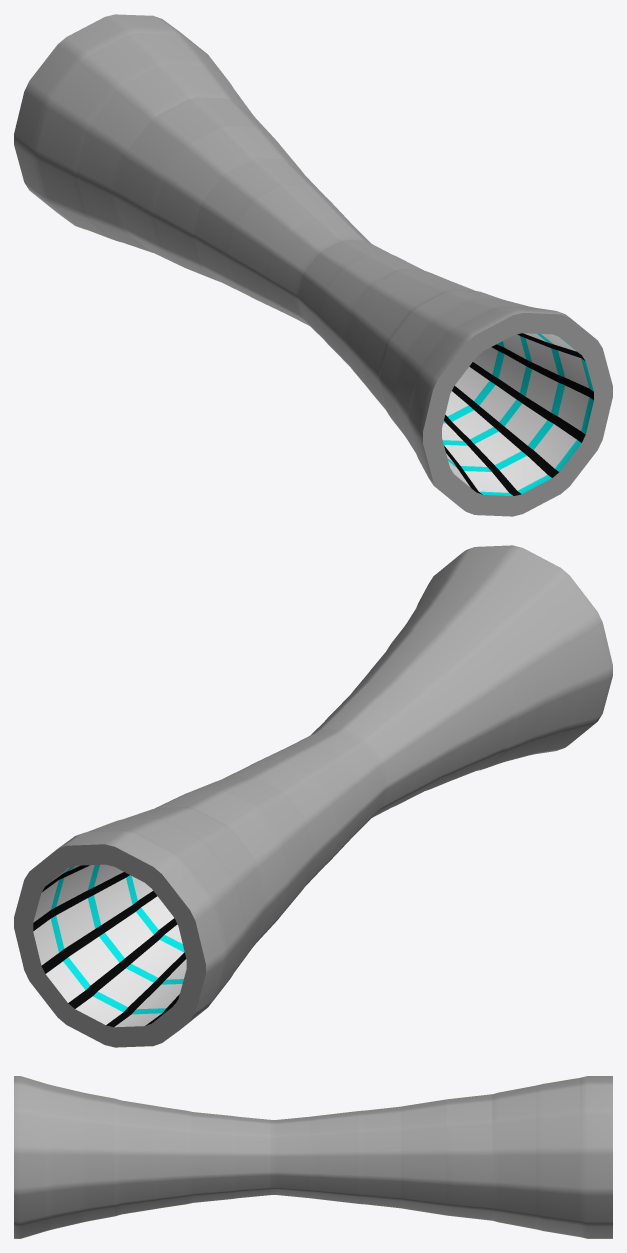
Rendered from 02-Narrow-01.fbx.
3 views of the same model, one above another, from view 1: azimuth 30°, elevation 25°; view 2: azimuth 150°, elevation 25°; view 3: azimuth 270°, elevation 25° (orthographic). The views are drawn at different scales.
Parts seen in each view (by area): view 1: Base16; view 2: Base16; view 3: Base16.
Part boxes in pixels (x1,y1,x2,y2): Base16: (14, 14, 612, 516); Base16: (14, 545, 612, 1047); Base16: (14, 1076, 612, 1238).
Bounding box in the file's own units: 4993 × 5006 × 18389.
